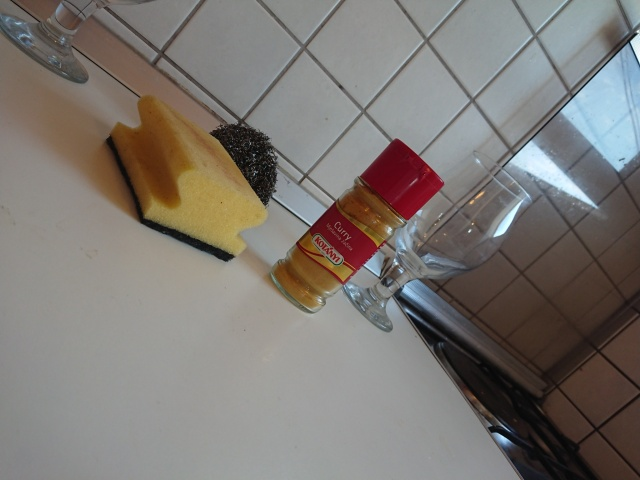Kotanyi Curry Spices Mix 70g: (267, 135, 449, 317)
